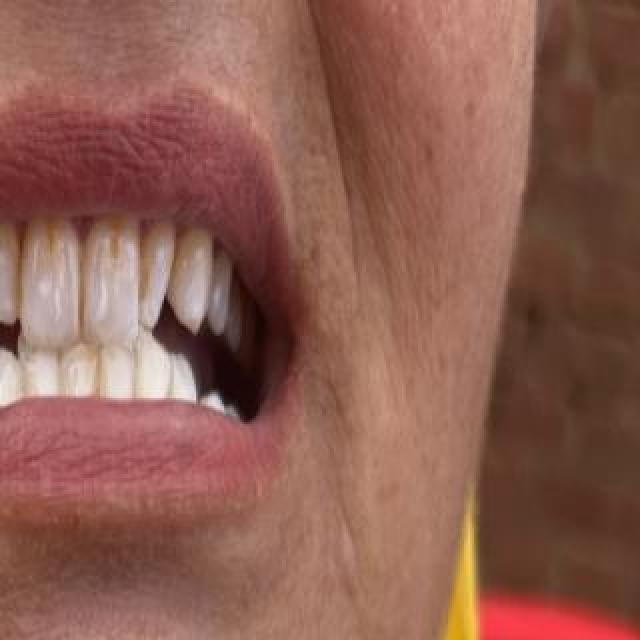maligned: (71, 190, 147, 358), (12, 193, 82, 339), (140, 210, 186, 332), (97, 322, 141, 414), (131, 323, 173, 405), (14, 334, 58, 410), (61, 326, 101, 408), (0, 216, 24, 340)
stains: (9, 240, 33, 324), (128, 238, 154, 310), (167, 240, 185, 296)
